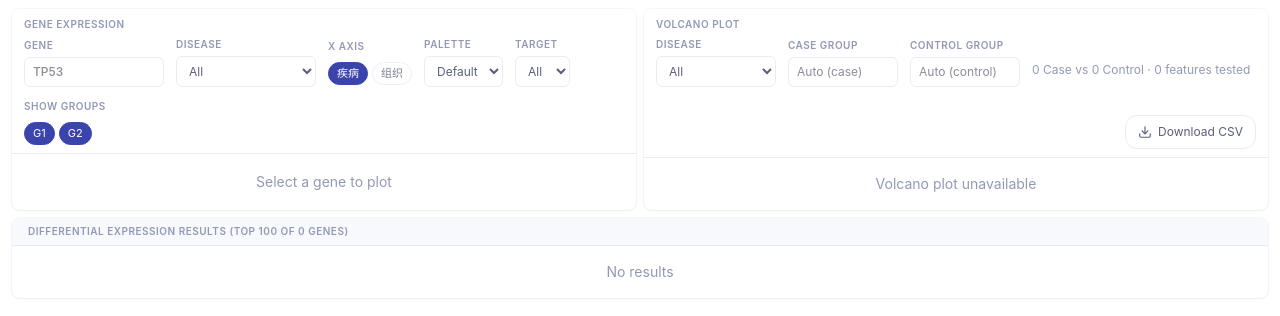
BulkAnalysisTab — sessionStorage persistence (same pattern as scRNA) › choosing 组织 hides the boxplot Disease selector and resets it to All
This screenshot has width=1280, height=316.
Expected: the text "No results" is shown, [606, 263, 674, 280]
Select "COPD" in the 1st dropdown. click: (246, 72)
box: [176, 56, 316, 87]
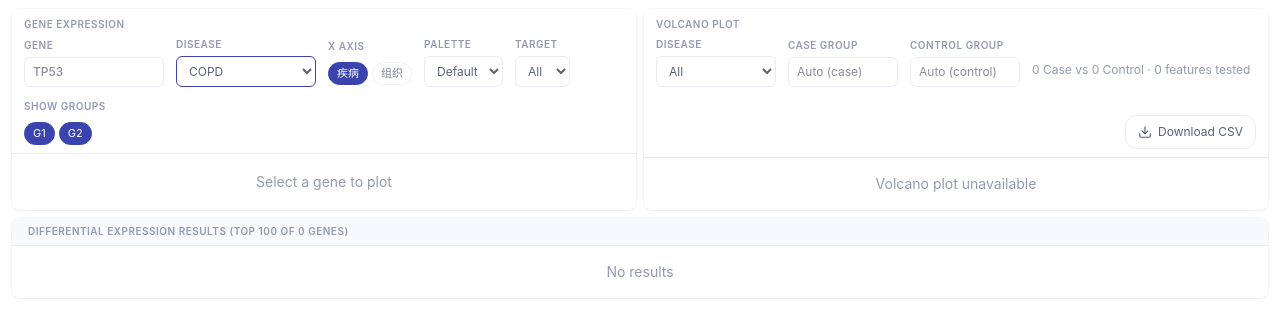
Expected: the number of dropdowns is 4, [176, 56, 316, 87]; [424, 56, 503, 87]; [515, 56, 570, 87]; [656, 56, 776, 87]
Click the button "组织". click: (392, 74)
box: [372, 62, 412, 85]
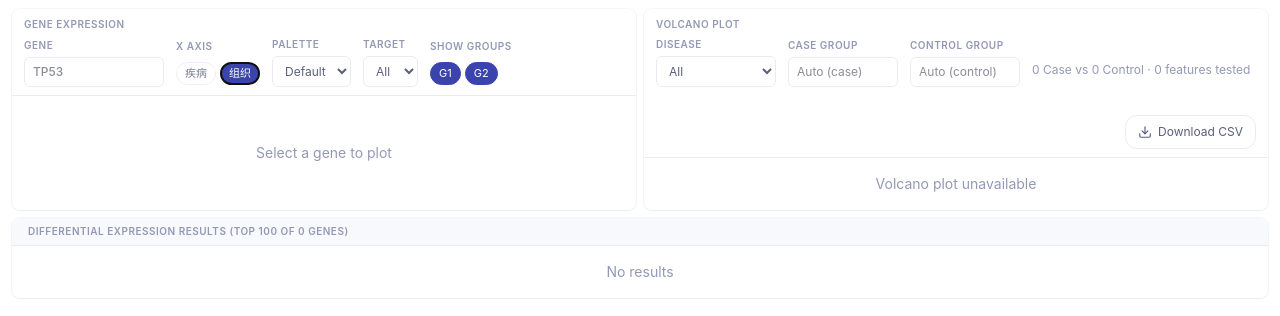
Result: the number of dropdowns is 3 at [272, 56, 351, 87]; [363, 56, 418, 87]; [656, 56, 776, 87]
Click the button "疾病". click: (196, 74)
box: [176, 62, 216, 85]
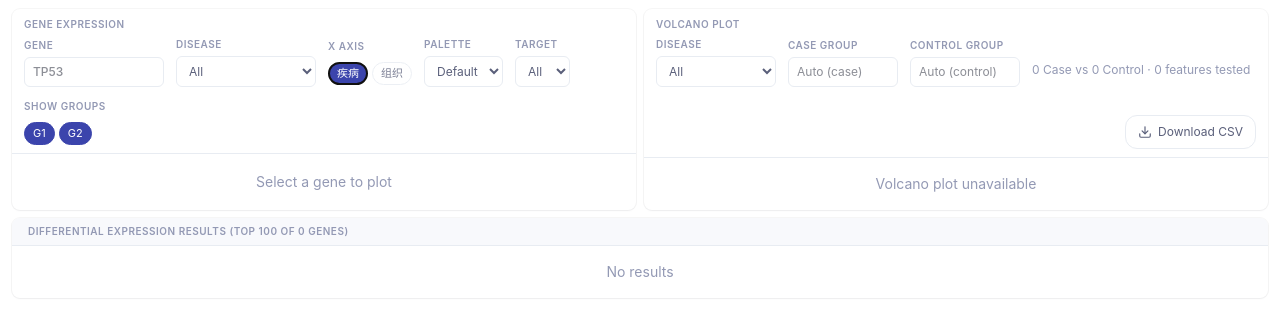
Result: the number of dropdowns is 4 at [176, 56, 316, 87]; [424, 56, 503, 87]; [515, 56, 570, 87]; [656, 56, 776, 87]
Result: the 1st dropdown shows "All" at [176, 56, 316, 87]
